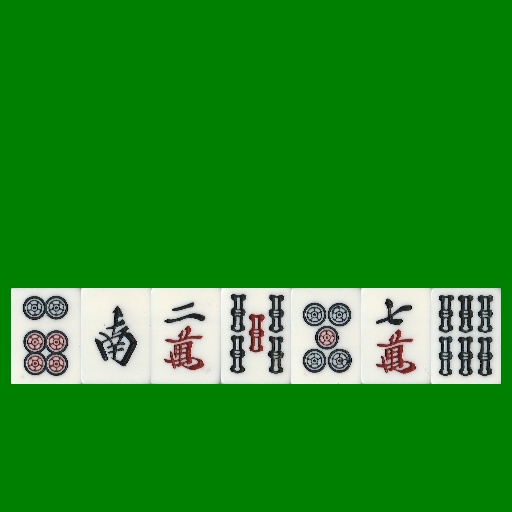2m: (151, 288, 221, 384)
5p: (291, 288, 361, 384)
5s: (221, 288, 291, 384)
6p: (11, 288, 81, 384)
6s: (431, 288, 501, 384)
7m: (361, 288, 431, 384)
south: (81, 288, 151, 384)
